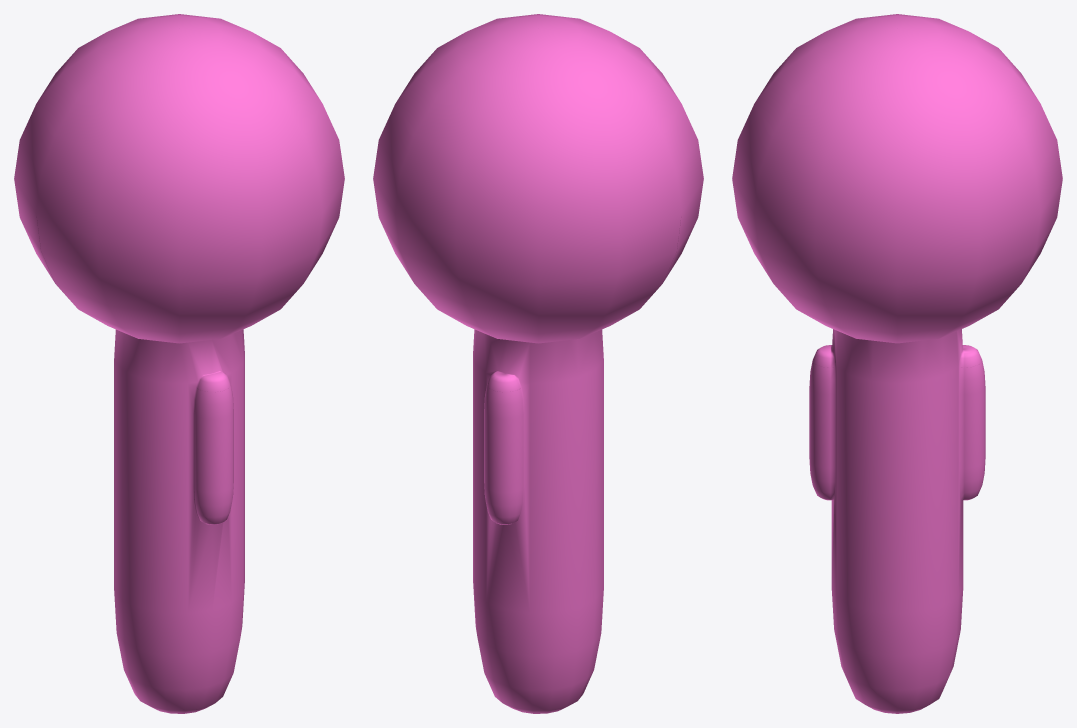
Rendered from NPC.fbx.
3 renders of one model, left to right at view 1: azimuth 30°, elevation 25°; view 2: azimuth 150°, elevation 25°; view 3: azimuth 270°, elevation 25°, orthographic.
Visible parts, largest first — view 1: Cylinder.001; view 2: Cylinder.001; view 3: Cylinder.001.
Part boxes in pixels (x1,y1,x2,y2): Cylinder.001: (14, 14, 344, 713); Cylinder.001: (373, 14, 703, 713); Cylinder.001: (732, 14, 1062, 713).
Size of the model in its own units: 176 by 394 by 176.
Materials: 1 (1 with a texture image).
